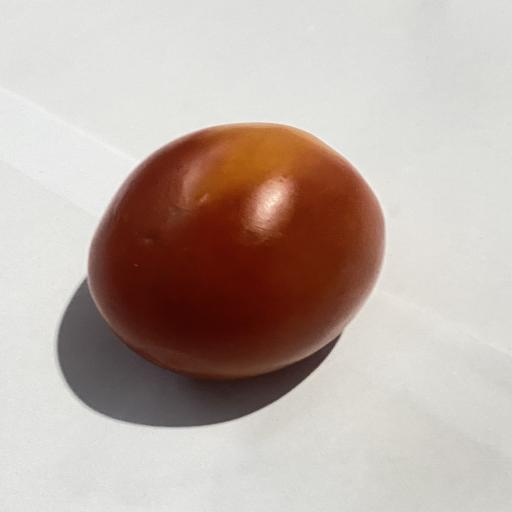ripe: (88, 123, 385, 379)
